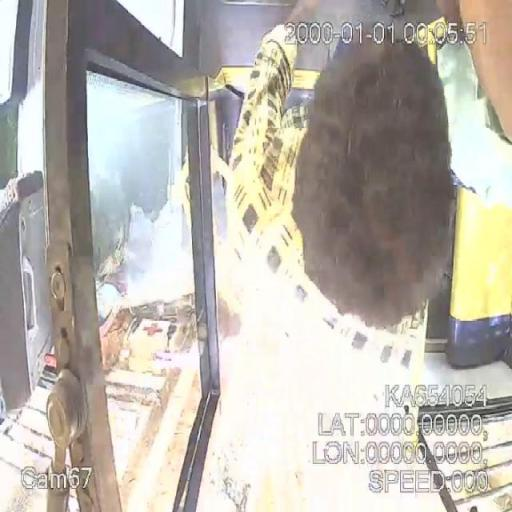persona: (220, 2, 510, 364)
